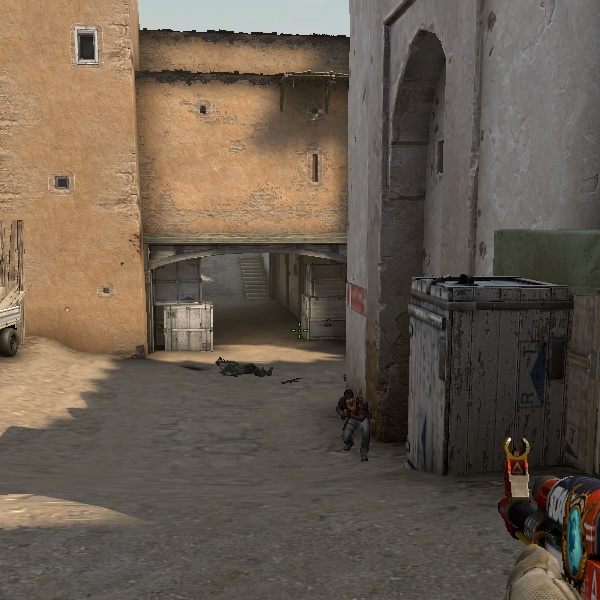t_body: (331, 386, 369, 455)
